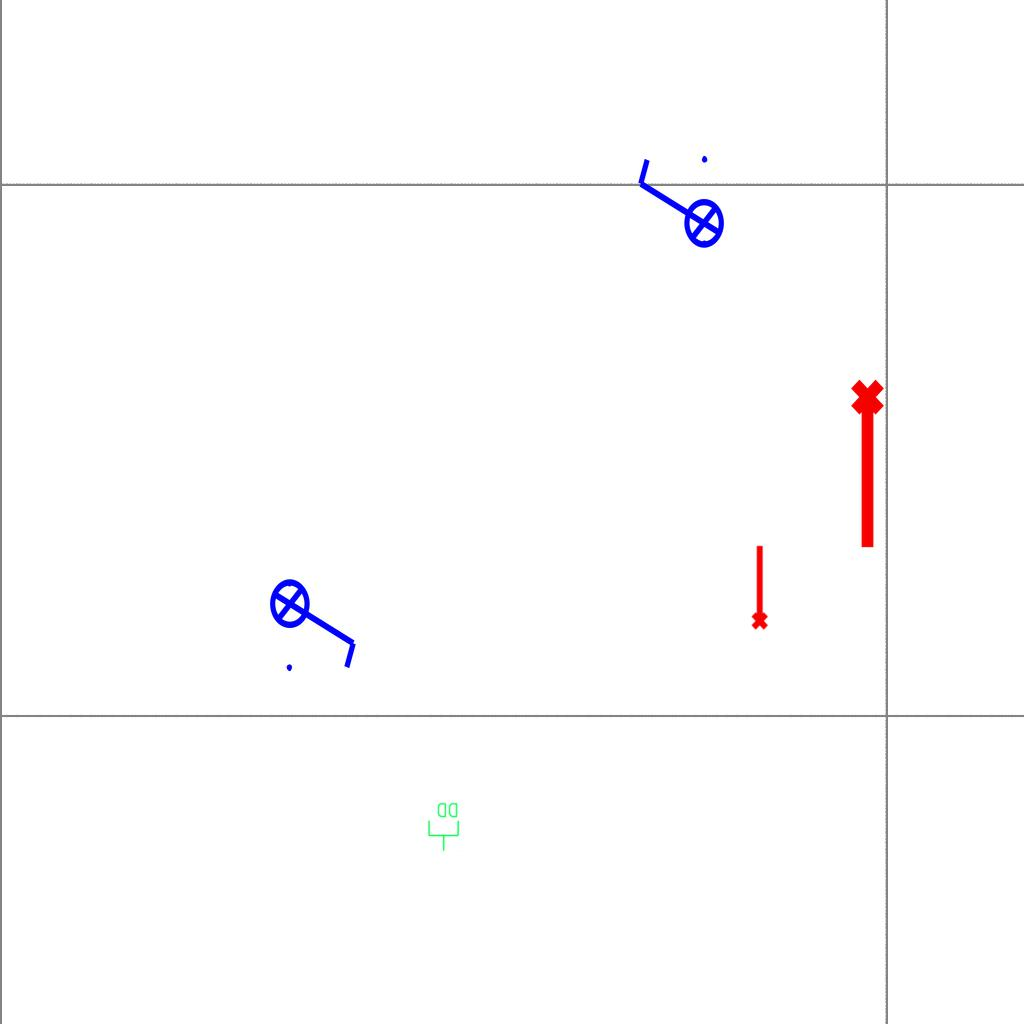ASR_Ansaugoeffnung: (847, 377, 893, 553), (747, 543, 770, 631)
Ausschalter_beleuchtet: (630, 150, 726, 262), (268, 565, 364, 677)
Datenanschluss_zweifach: (427, 801, 461, 852)
